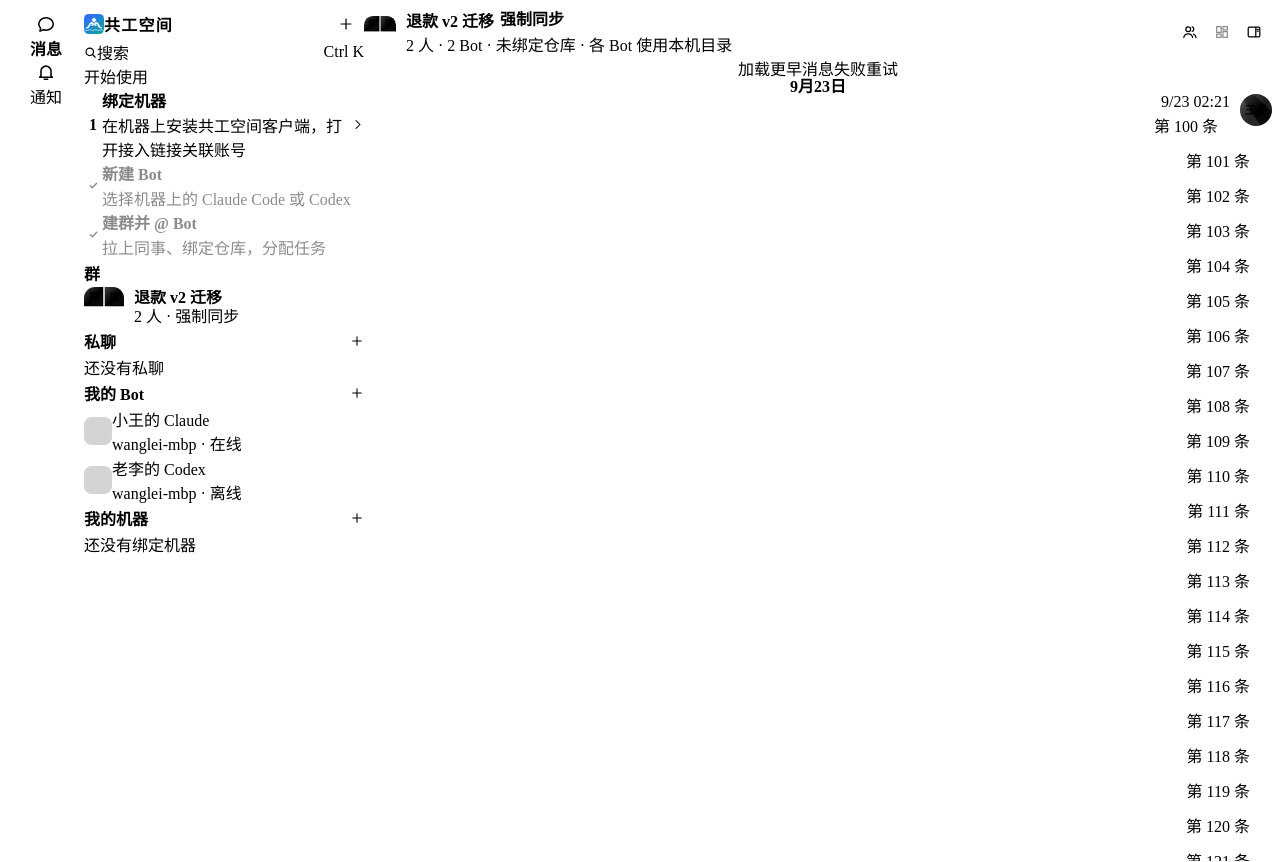
Test case: timeline loading › shows a spinner while loading older pages and a retry row when that fails
The width and height of the screenshot is (1280, 862).
Check: the element with test id "older-loading" is shown, box [738,56,898,80]
Check: the element with test id "older-error" shows "加载更早消息失败", box [738,61,866,78]
Click the button "重试" at (882, 68), box [866,56,898,80]
(page scrolled)
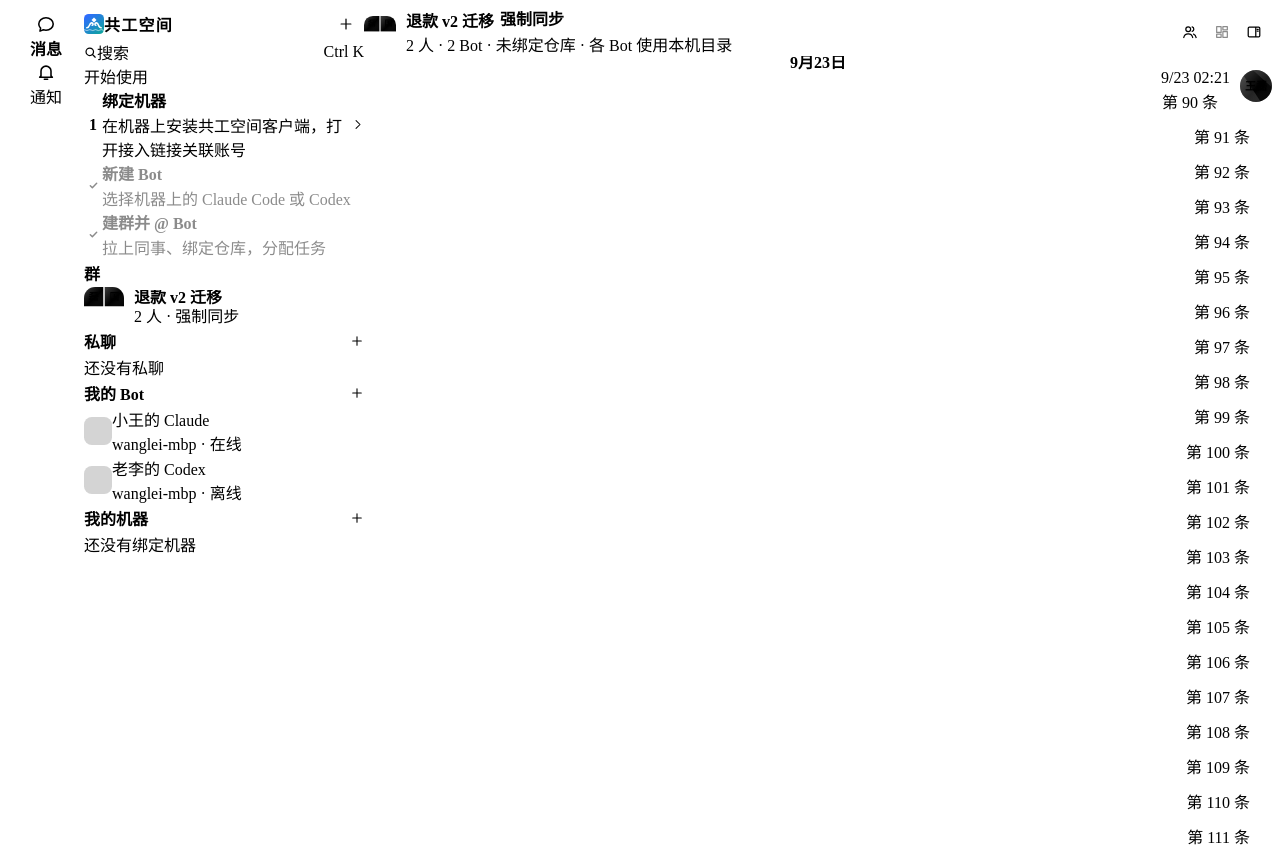
Check: the text "第 90 条" is shown, box [1162,93,1218,112]
Check: the element with test id "older-error" is gone
